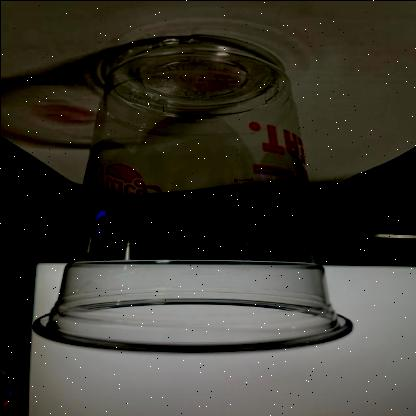Others: (31, 34, 356, 356)
